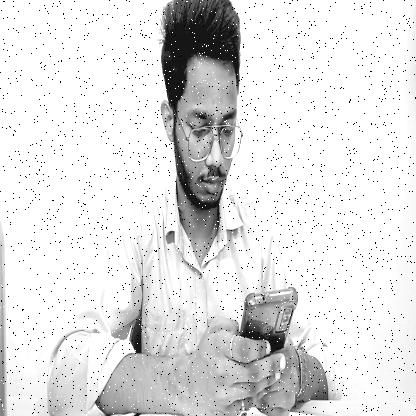Distracted: (162, 0, 245, 218)
